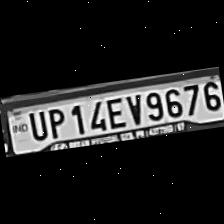1: (64, 102, 86, 137)
4: (83, 98, 106, 133)
6: (198, 78, 223, 114), (160, 84, 184, 118)
7: (180, 81, 202, 117)
9: (140, 89, 164, 122)
E: (101, 94, 126, 130)
P: (42, 104, 68, 140)
U: (23, 108, 47, 142)
V: (122, 92, 144, 126)
